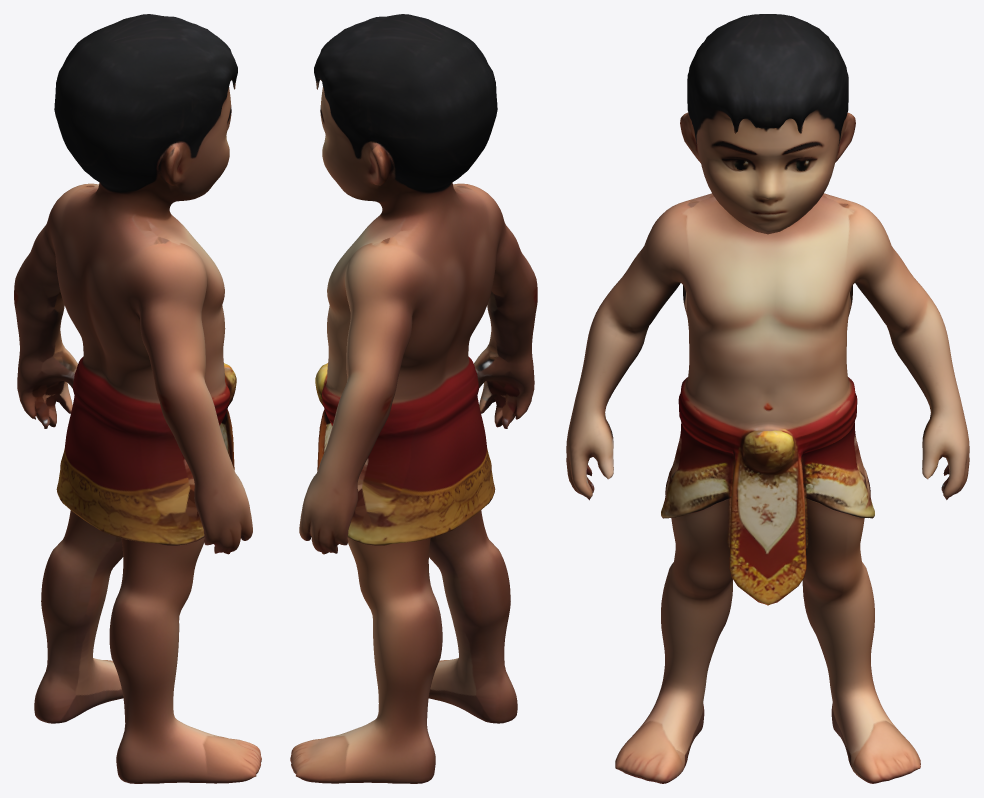
File: Kapitan_Bong.fbx
3 renders of one model, left to right at view 1: azimuth 30°, elevation 25°; view 2: azimuth 150°, elevation 25°; view 3: azimuth 270°, elevation 25°, orthographic. The views are drawn at different scales.
Visible parts, largest first — view 1: model; view 2: model; view 3: model.
Boxes of the visible parts, x1,y1,x2,y2 form: model: (14,14,261,783); model: (290,14,537,783); model: (566,14,969,783).
Bounding box in the file's own units: 46.72 × 191 × 95.39.
Materials: 1 (1 with a texture image).
